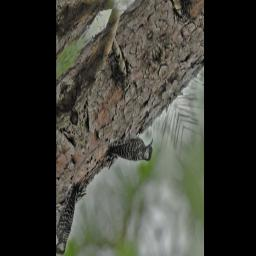Woodpecker: (104, 107, 159, 194)
